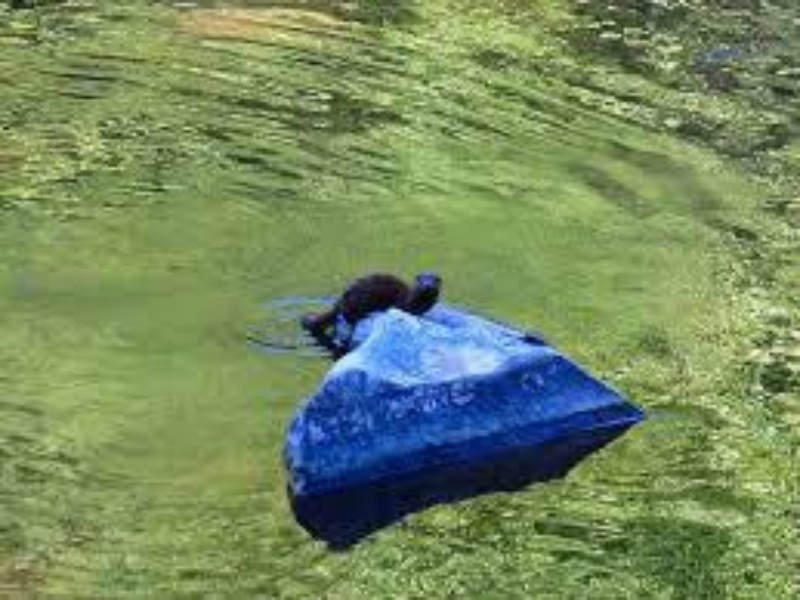minkish: (298, 269, 445, 342)
